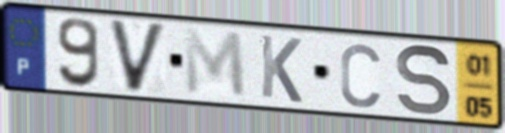9: (55, 15, 102, 90)
C: (337, 40, 383, 110)
K: (257, 32, 305, 106)
M: (181, 26, 250, 102)
S: (393, 42, 455, 119)
V: (105, 17, 170, 96)
